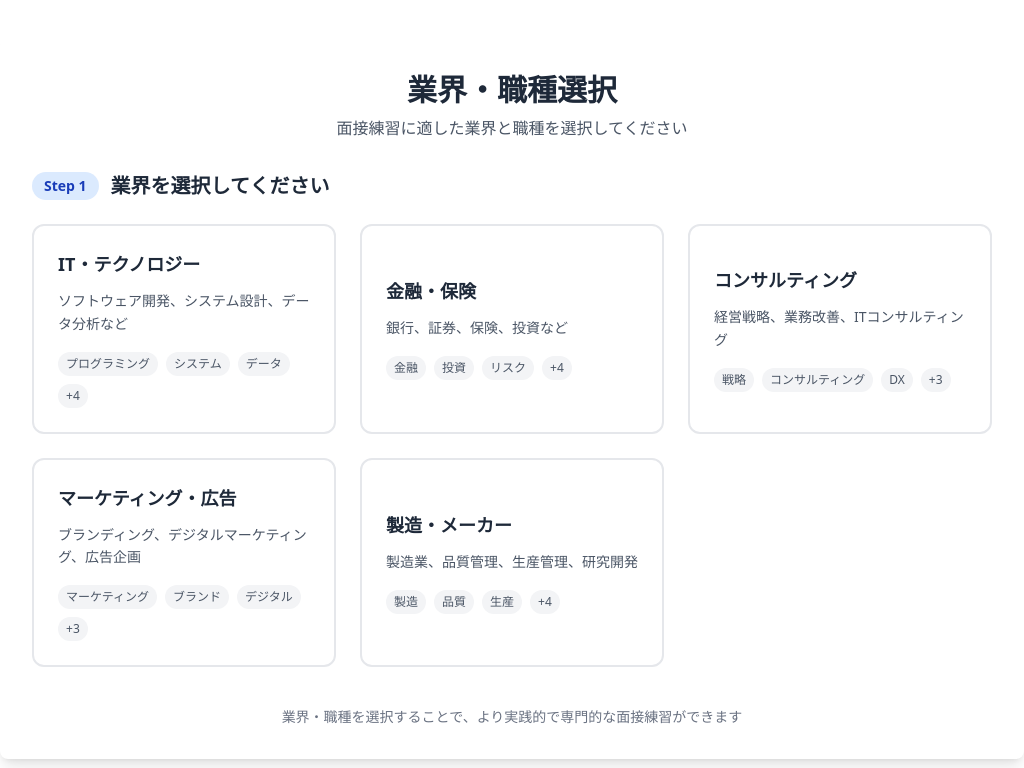
IndustryJobSelector › 業界選択が正常に動作する
Note: IT業界をクリック
Step 1. Click the heading "IT・テクノロジー" → [129, 264], box [58, 250, 200, 278]
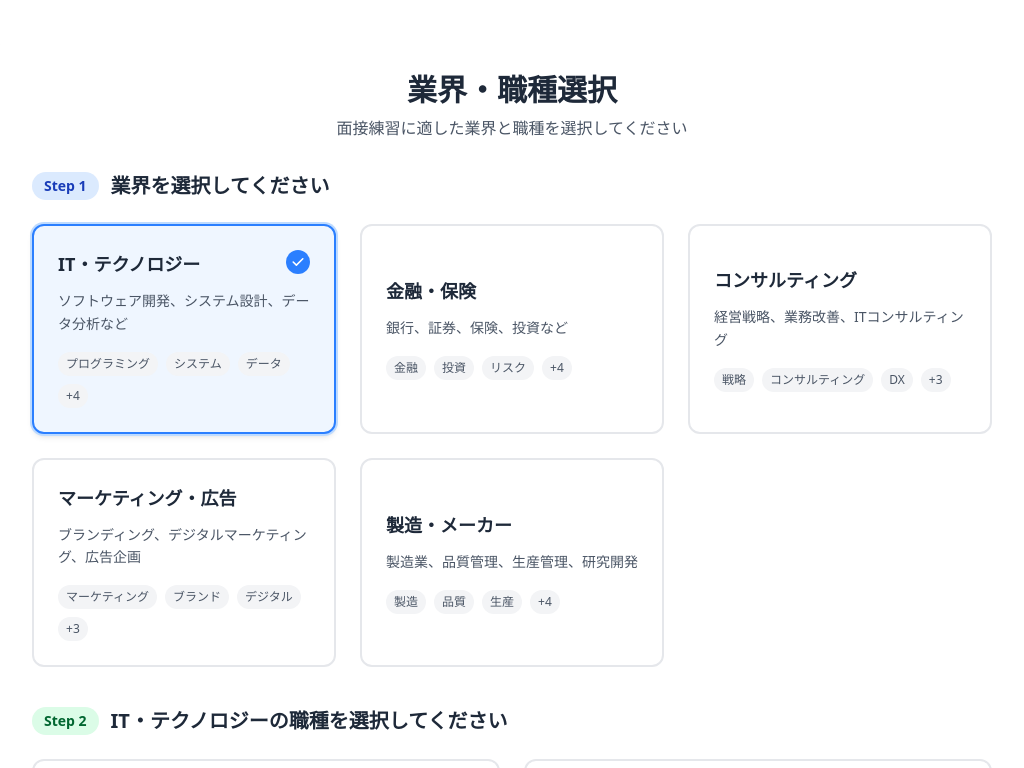
Expected: the heading "Step 2 IT・テクノロジーの職種を選択してください" is shown, [32, 707, 508, 735]
